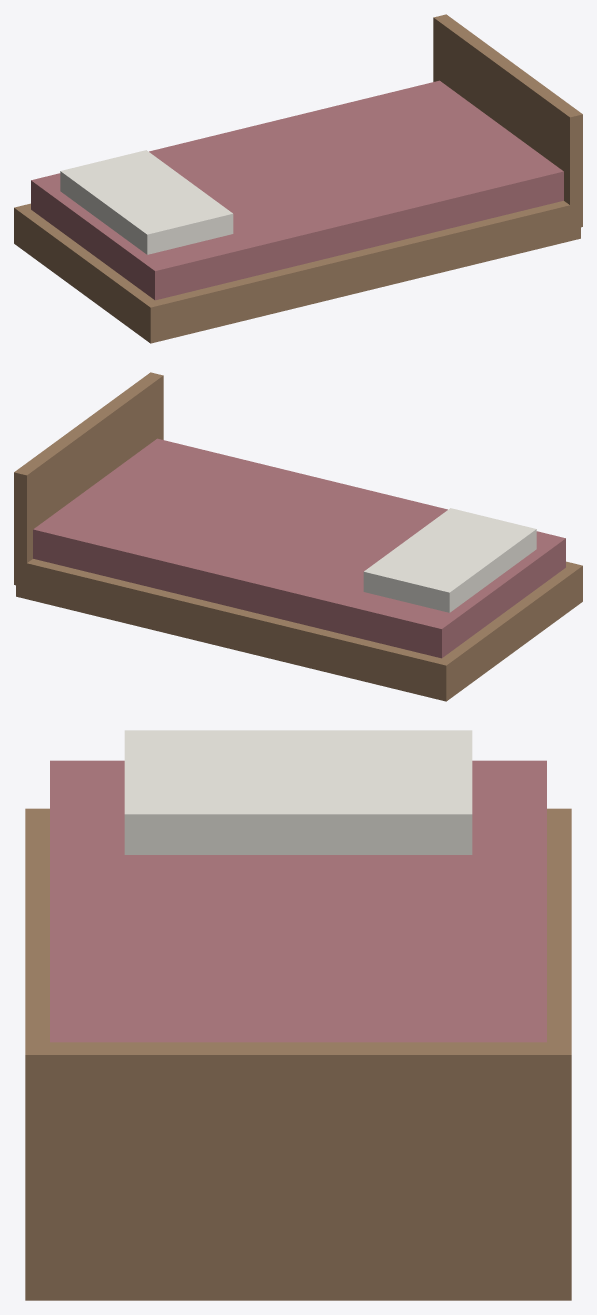
The model's file is bed.glb.
The picture shows the model from 3 angles, top to bottom: view 1: azimuth 30°, elevation 25°; view 2: azimuth 150°, elevation 25°; view 3: azimuth 270°, elevation 25°; orthographic projection. The views are drawn at different scales.
Visible parts, largest first — view 1: Cube.001, Cube, Cube.003, Cube.002; view 2: Cube.001, Cube, Cube.003, Cube.002; view 3: Cube.003, Cube.001, Cube.002, Cube.
Boxes of the visible parts, x1,y1,x2,y2 form: Cube.001: (31, 80, 563, 300); Cube: (14, 201, 580, 343); Cube.003: (433, 14, 582, 229); Cube.002: (60, 150, 233, 254); Cube.001: (33, 438, 565, 658); Cube: (16, 559, 582, 701); Cube.003: (14, 372, 163, 587); Cube.002: (363, 508, 536, 612); Cube.003: (25, 1042, 571, 1279); Cube.001: (50, 760, 546, 1042); Cube.002: (124, 730, 472, 854); Cube: (25, 808, 571, 1300).
Bounding box in the file's own units: 2.01 × 0.55 × 1.1.
